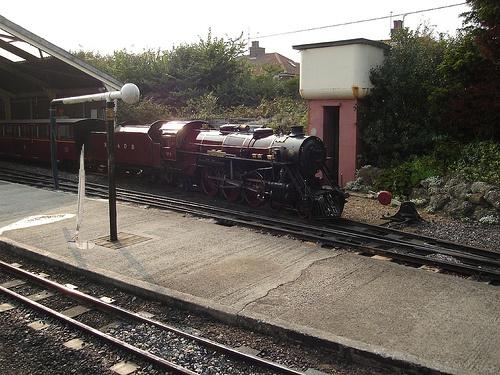tampered: (69, 145, 95, 249)
